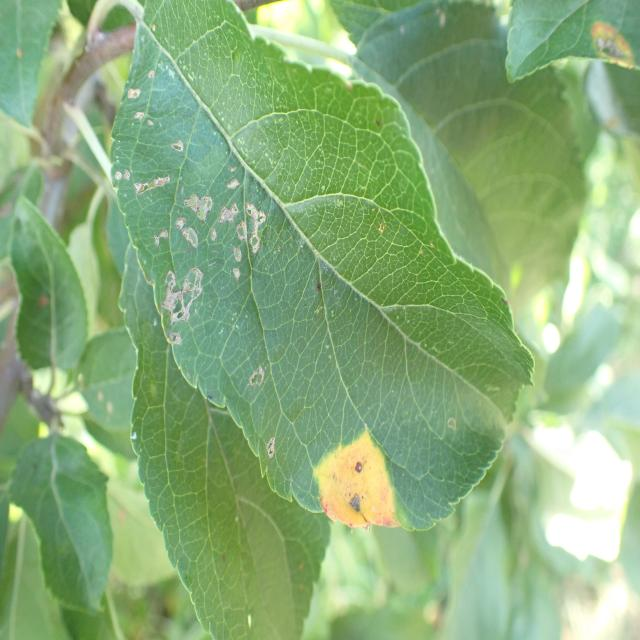rust: (108, 2, 534, 534), (504, 0, 640, 83)
